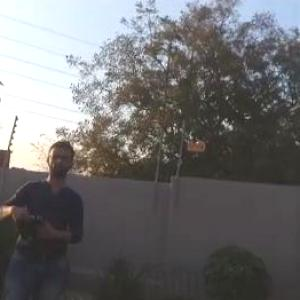follow: (0, 134, 88, 299)
